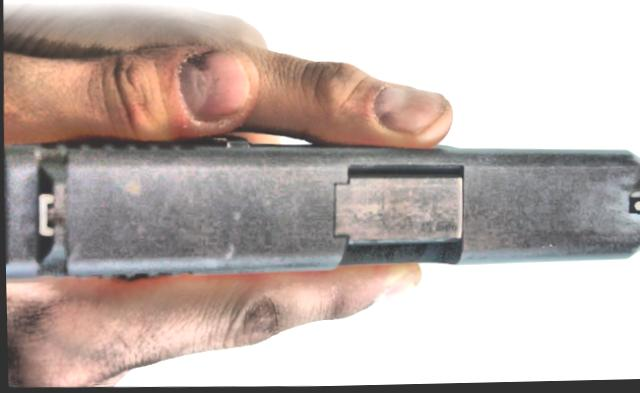pistol: (2, 127, 640, 283)
